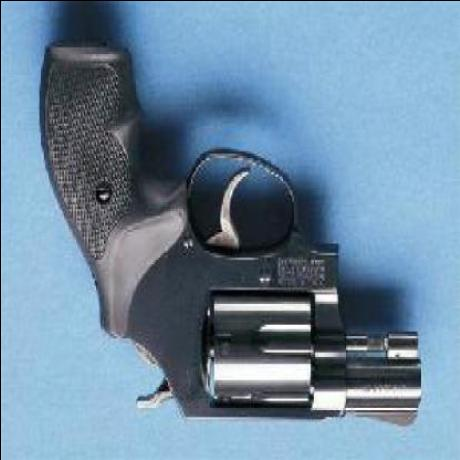weapon: (35, 28, 424, 440)
